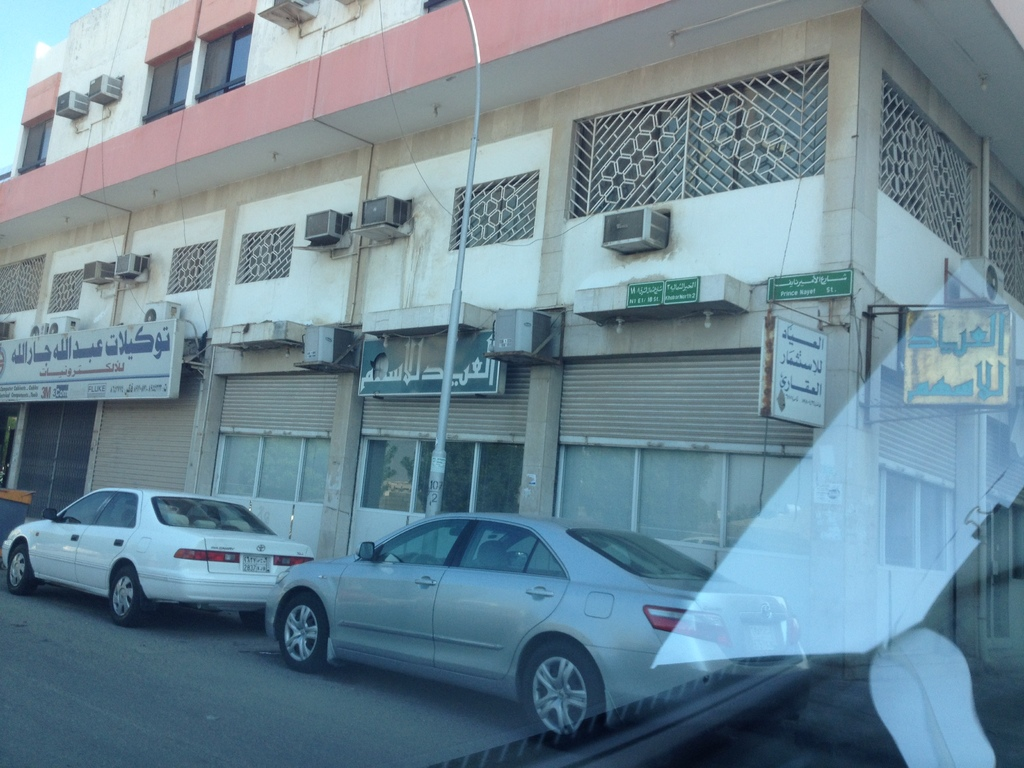Car: (0, 0, 1023, 767), (264, 510, 808, 746), (0, 487, 314, 629)
